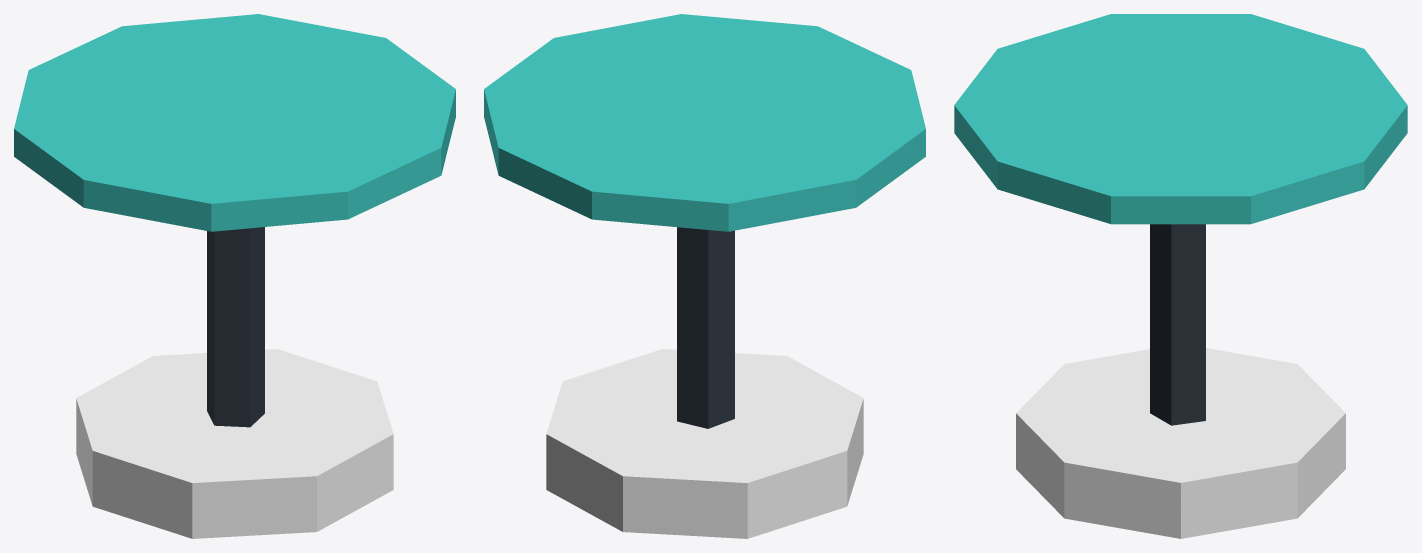
Rendered from hologram-disc.glb.
The picture shows the model from 3 angles, left to right: view 1: azimuth 30°, elevation 25°; view 2: azimuth 150°, elevation 25°; view 3: azimuth 270°, elevation 25°; orthographic projection.
Visible parts, largest first — view 1: lab-hologram-disc; view 2: lab-hologram-disc; view 3: lab-hologram-disc.
Boxes of the visible parts, box(x1,y1,x2,y2) form: lab-hologram-disc: box(14, 14, 455, 538); lab-hologram-disc: box(484, 14, 925, 538); lab-hologram-disc: box(954, 14, 1407, 538).
Bounding box in the file's own units: 0.4185 × 0.39 × 0.44.
